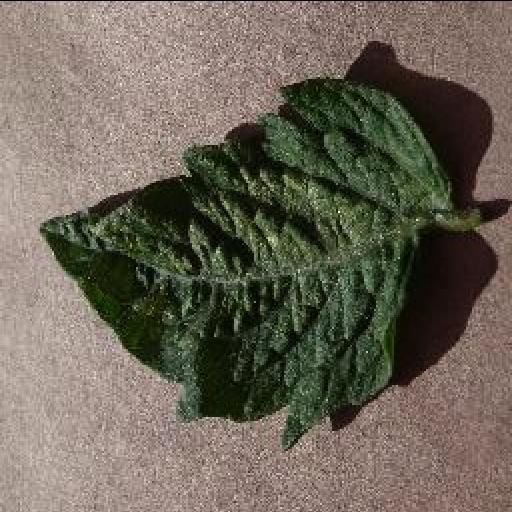disease_tomato: (38, 78, 460, 450)
